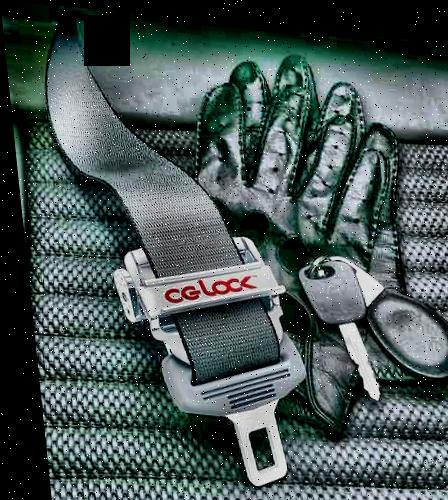seatbelt: (22, 32, 285, 493)
